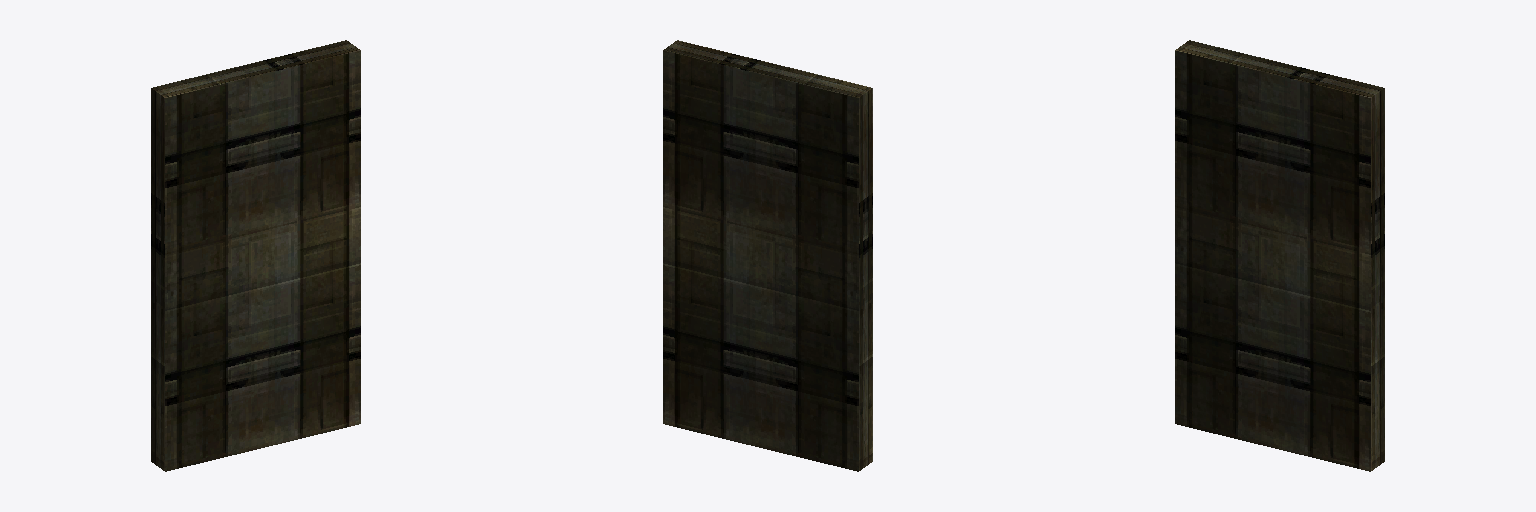
3 views of the same model, side by side, from view 1: azimuth 30°, elevation 25°; view 2: azimuth 150°, elevation 25°; view 3: azimuth 330°, elevation 25° (orthographic).
Parts seen in each view (by area): view 1: MODELS_bin_047:poly000_Untitled; view 2: MODELS_bin_047:poly000_Untitled; view 3: MODELS_bin_047:poly000_Untitled.
Part boxes in pixels (left/top/right/bottom): MODELS_bin_047:poly000_Untitled: left=151, top=40, right=360, bottom=471; MODELS_bin_047:poly000_Untitled: left=663, top=40, right=872, bottom=471; MODELS_bin_047:poly000_Untitled: left=1175, top=40, right=1384, bottom=471.
Size of the model in its own units: 6.25 by 11.41 by 0.7813.
Materials: 1 (1 with a texture image).